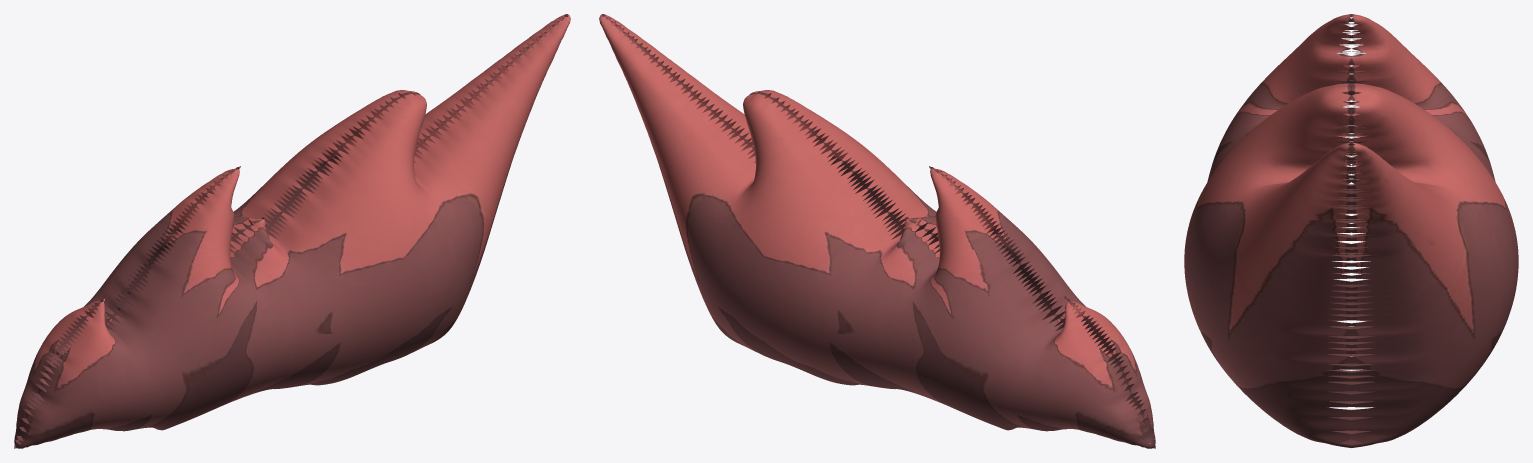
Rendered from red_ridge.glb.
3 views of the same model, side by side, from view 1: azimuth 30°, elevation 25°; view 2: azimuth 150°, elevation 25°; view 3: azimuth 270°, elevation 25° (orthographic). The views are drawn at different scales.
Parts seen in each view (by area): view 1: red_ridge; view 2: red_ridge; view 3: red_ridge.
Part boxes in pixels (x1,y1,x2,y2): red_ridge: [14, 14, 570, 448]; red_ridge: [599, 14, 1155, 448]; red_ridge: [1184, 14, 1518, 447].
Bounding box in the file's own units: 0.984 × 0.5118 × 0.3553.
Materials: 1 (1 with a texture image).
